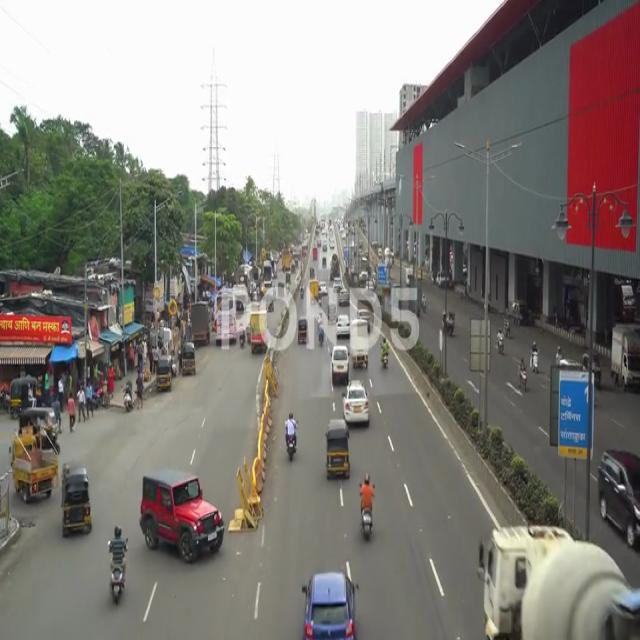car: (139, 463, 225, 562), (298, 566, 362, 639), (603, 444, 640, 552), (344, 380, 369, 418)
motorbike: (107, 523, 129, 605), (358, 478, 373, 544), (281, 409, 300, 460)
rikshaw: (59, 460, 94, 542), (321, 422, 348, 488)
truck: (476, 526, 599, 640)
